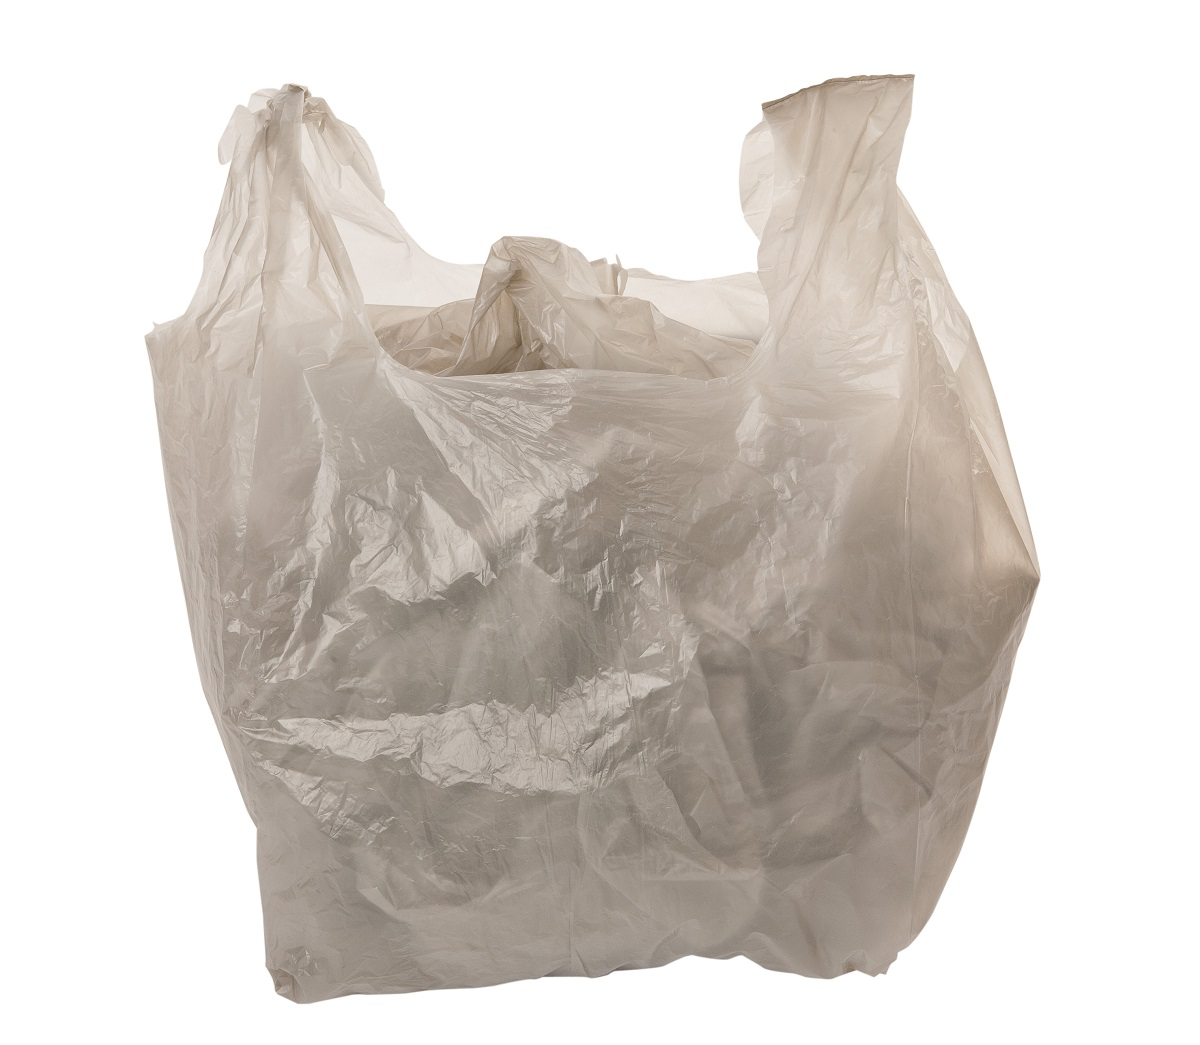PlasticBag: (166, 56, 1052, 1018)
